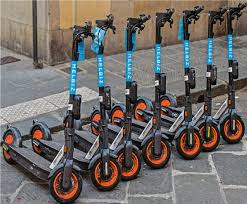kick_body: (15, 148, 48, 177)
kick_handler: (72, 20, 93, 41), (125, 14, 150, 30), (182, 6, 204, 21), (157, 8, 175, 26), (96, 16, 116, 32), (227, 3, 247, 18), (208, 8, 225, 24)
kick_neck: (65, 51, 81, 155), (96, 52, 112, 142), (125, 38, 135, 132), (226, 35, 236, 109), (155, 41, 163, 127), (207, 36, 215, 113), (185, 39, 193, 115)
kick_wheel: (52, 163, 83, 203), (89, 153, 121, 191), (174, 126, 202, 159), (143, 135, 171, 167), (220, 114, 246, 143), (120, 143, 140, 179), (200, 121, 220, 150), (30, 121, 48, 152), (3, 126, 16, 160), (138, 96, 152, 121)
